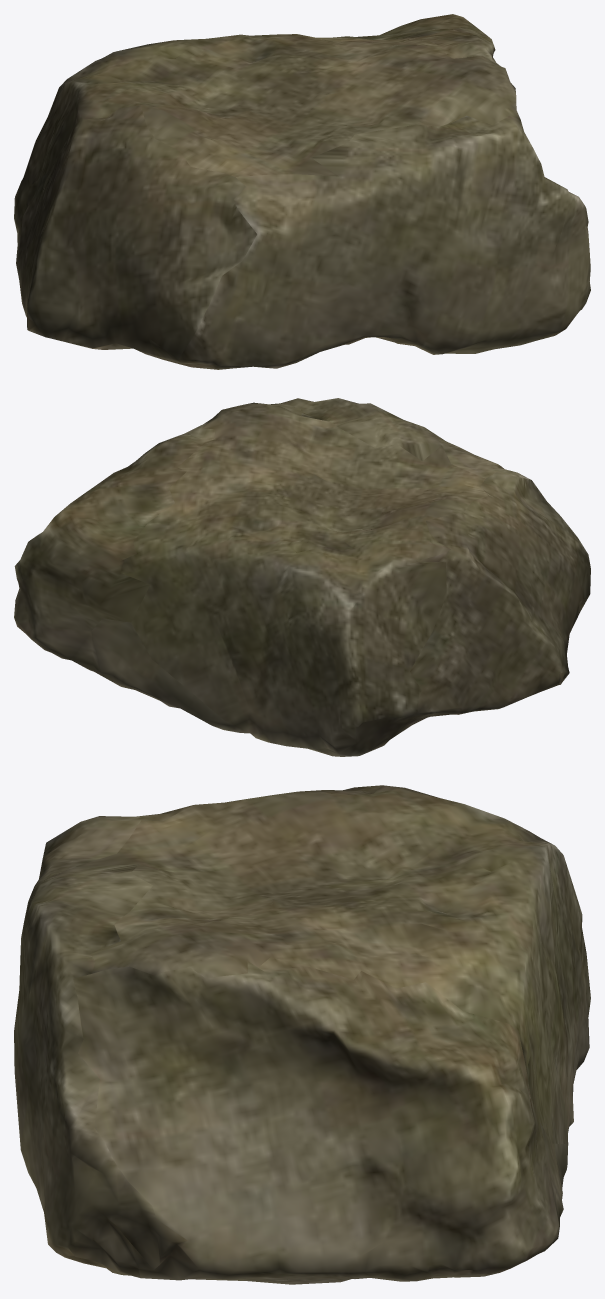
The model's file is SM_RockMoss_B01.gltf.
3 views of the same model, one above another, from view 1: azimuth 30°, elevation 25°; view 2: azimuth 150°, elevation 25°; view 3: azimuth 270°, elevation 25° (orthographic). The views are drawn at different scales.
Parts seen in each view (by area): view 1: SM_RockMoss_B01; view 2: SM_RockMoss_B01; view 3: SM_RockMoss_B01.
Part boxes in pixels (x1,y1,x2,y2): SM_RockMoss_B01: (14, 14, 590, 369); SM_RockMoss_B01: (14, 398, 590, 756); SM_RockMoss_B01: (14, 785, 590, 1284).
Size of the model in its own units: 1.69 by 0.743 by 1.22.
1 material, 1 textured.
